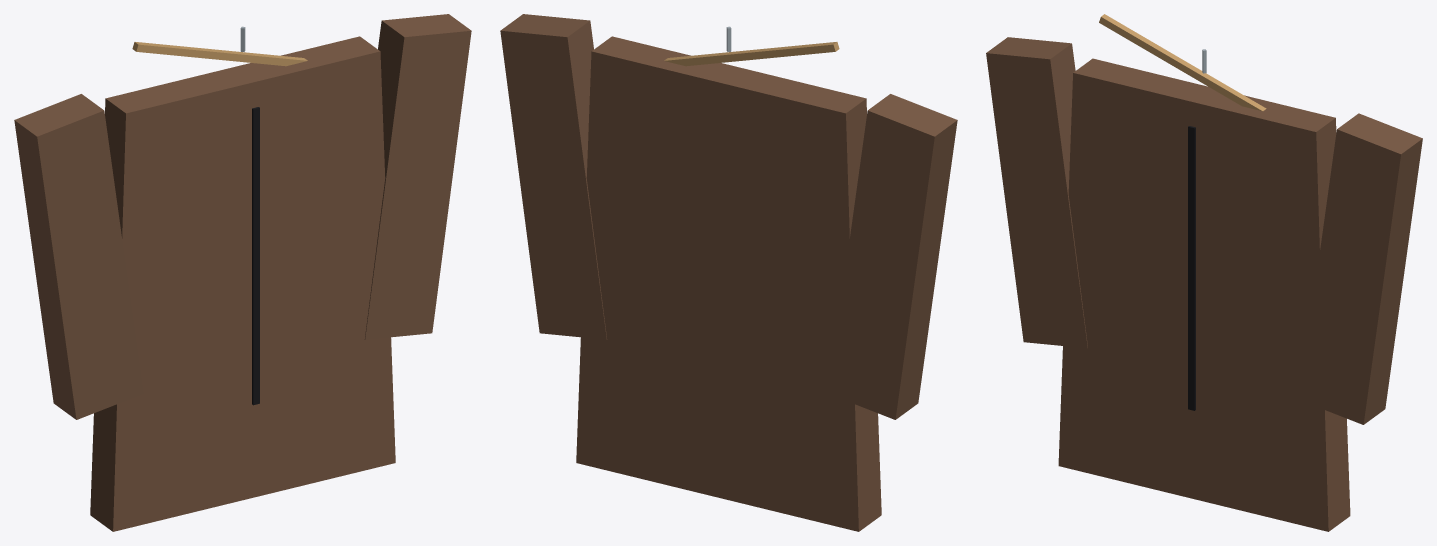
The model's file is FD_Jacket_Hanger_01.glb.
3 views of the same model, side by side, from view 1: azimuth 30°, elevation 25°; view 2: azimuth 150°, elevation 25°; view 3: azimuth 330°, elevation 25° (orthographic). The views are drawn at different scales.
Visible parts, largest first — view 1: FD_Jacket_Hanger_01; view 2: FD_Jacket_Hanger_01; view 3: FD_Jacket_Hanger_01.
Boxes of the visible parts, <box> form: FD_Jacket_Hanger_01: <box>14,14,471,531</box>; FD_Jacket_Hanger_01: <box>500,14,957,531</box>; FD_Jacket_Hanger_01: <box>986,14,1422,531</box>.
Bounding box in the file's own units: 0.7684 × 0.7975 × 0.077.
1 material, 1 textured.
